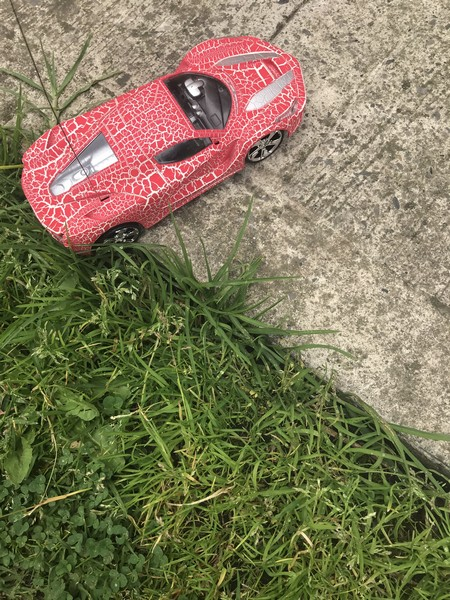RC: (21, 32, 308, 260)
